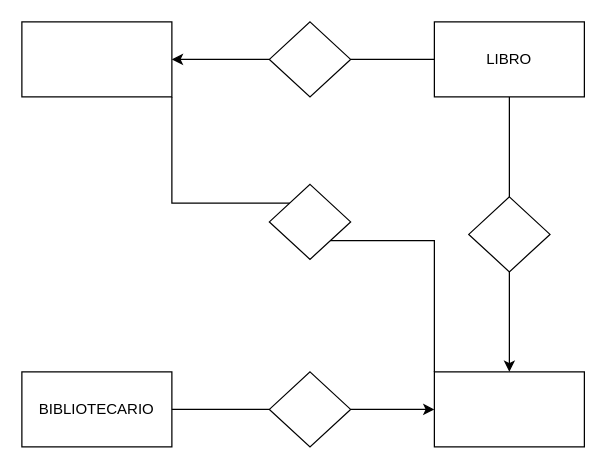
This 606x469 diagram has some shape labels left out. The box of each missing label's shape, as (x1, y1, x2, y2) in pixels:
BIBLIOTECA: (433, 371, 584, 447)
SOCIO: (21, 21, 172, 97)
